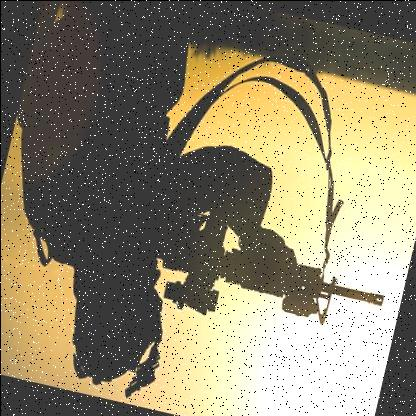rifle: (139, 191, 395, 359)
